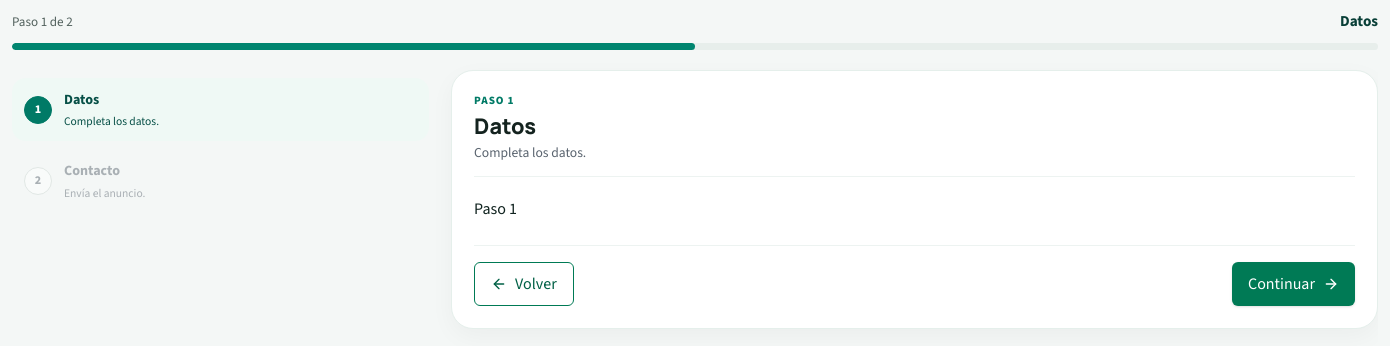
Scenario: PublicationStepLayout › does not submit the form when advancing into the final step
What coordinates should you click on to do the following:
click the button "Continuar"
I would click on:
 (1294, 284)
Its box is [1232,262,1355,306].
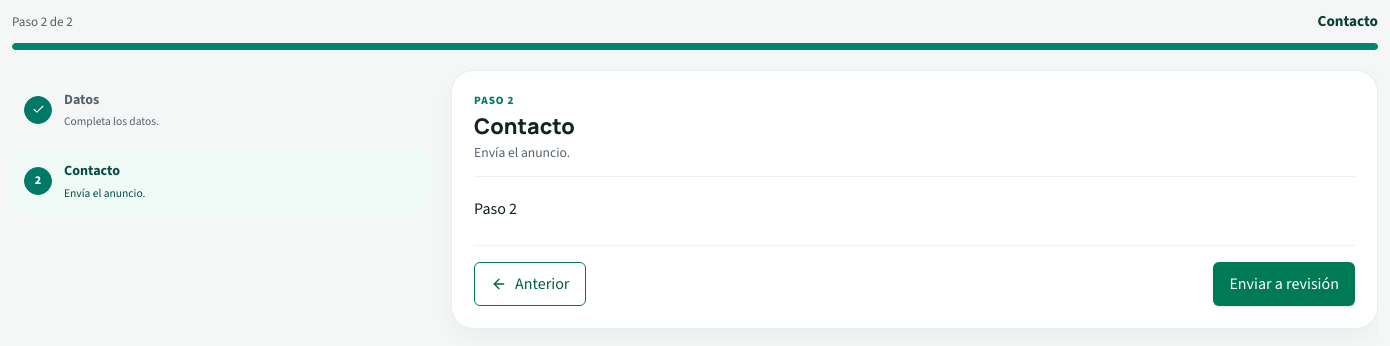
Result: the heading "Contacto" is shown at [474,111,575,140]
Result: the button "Enviar a revisión" is shown at [1213,262,1355,306]
